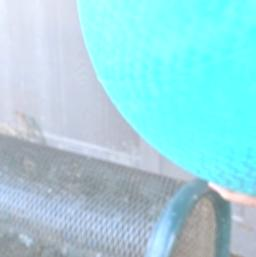algae: (73, 0, 256, 198)
